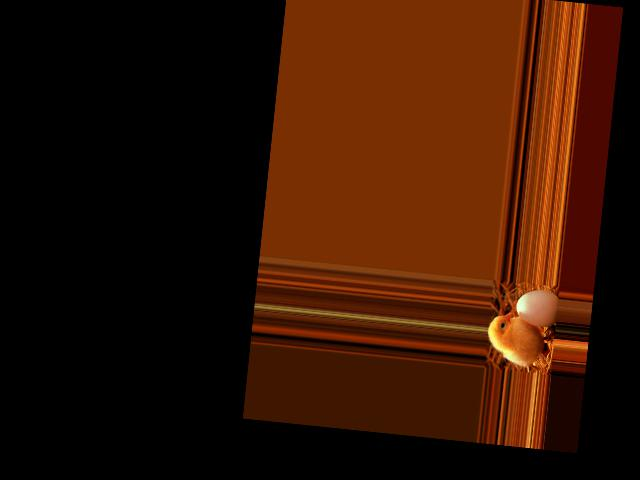egg: (514, 288, 560, 329)
